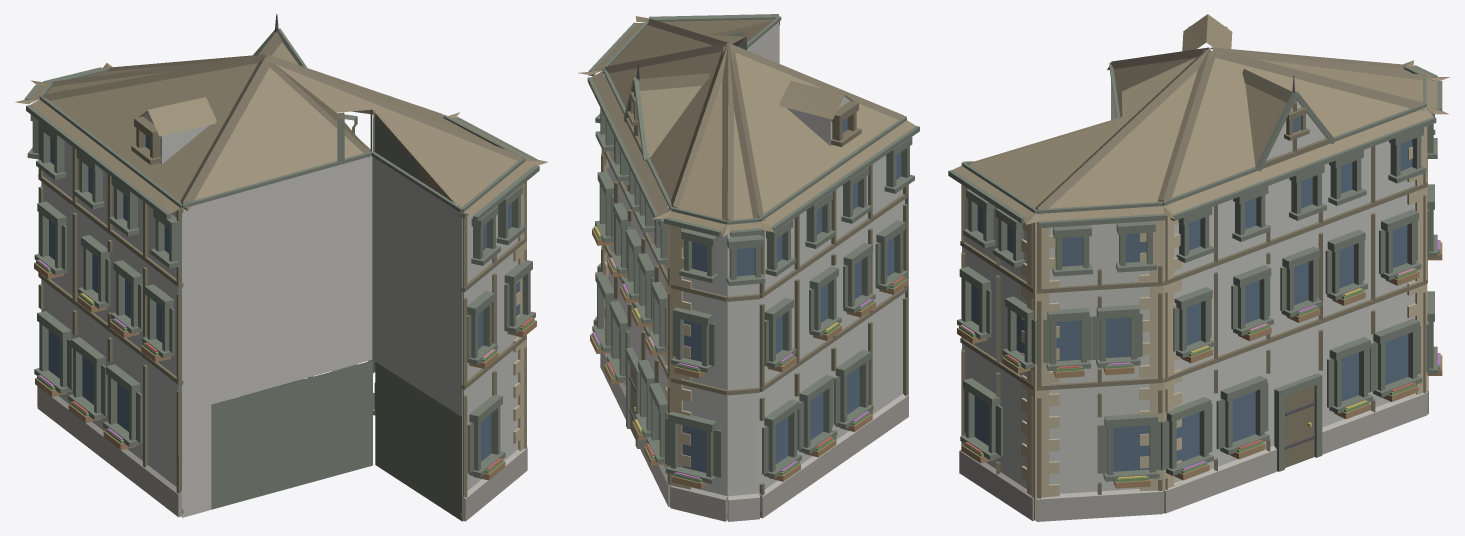
File: b028_closed.glb
3 renders of one model, left to right at view 1: azimuth 30°, elevation 25°; view 2: azimuth 150°, elevation 25°; view 3: azimuth 270°, elevation 25°, orthographic. The views are drawn at different scales.
Parts seen in each view (by area): view 1: B028_visible; view 2: B028_visible; view 3: B028_visible.
Boxes of the visible parts, bbox=[...] form: B028_visible: bbox=[15, 14, 548, 521]; B028_visible: bbox=[578, 14, 919, 521]; B028_visible: bbox=[948, 14, 1449, 521].
Size of the model in its own units: 11.07 by 12.27 by 14.26.
